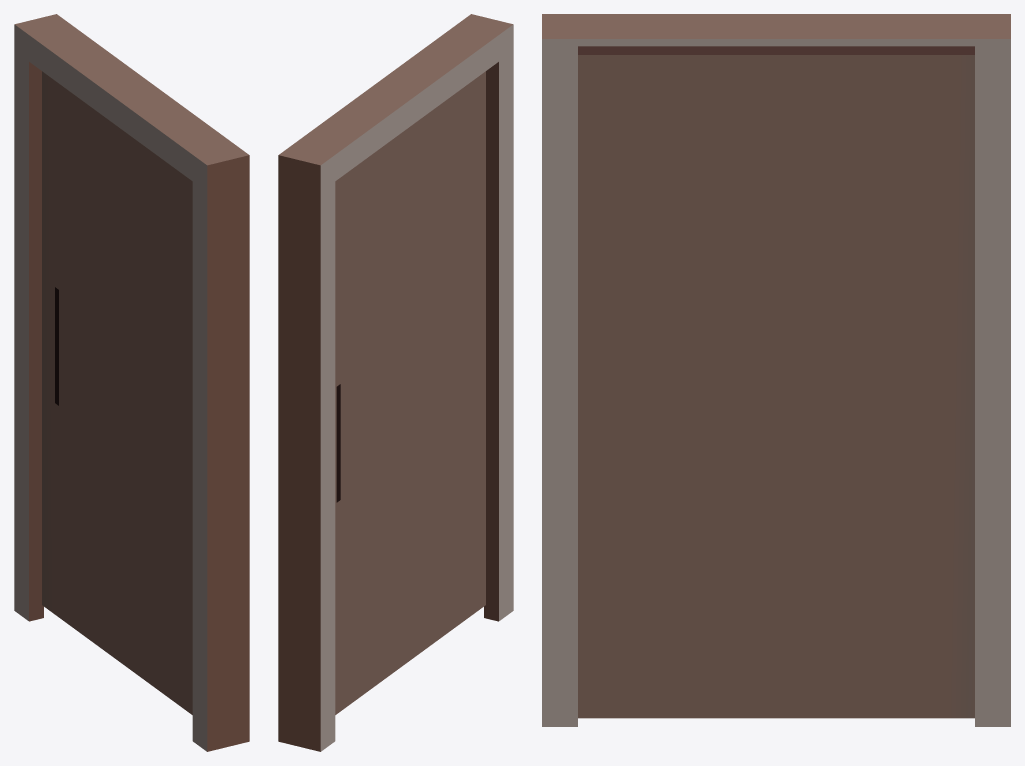
The model's file is M_chushimen01.FBX.
3 views of the same model, side by side, from view 1: azimuth 30°, elevation 25°; view 2: azimuth 150°, elevation 25°; view 3: azimuth 270°, elevation 25° (orthographic). The views are drawn at different scales.
Parts seen in each view (by area): view 1: M_chushimen01; view 2: M_chushimen01; view 3: M_chushimen01.
Boxes of the visible parts, box(x1,y1,x2,y2) form: M_chushimen01: box(14, 14, 249, 751); M_chushimen01: box(278, 14, 513, 751); M_chushimen01: box(542, 14, 1010, 726).
Bounding box in the file's own units: 0.2217 × 2.94 × 1.75.
